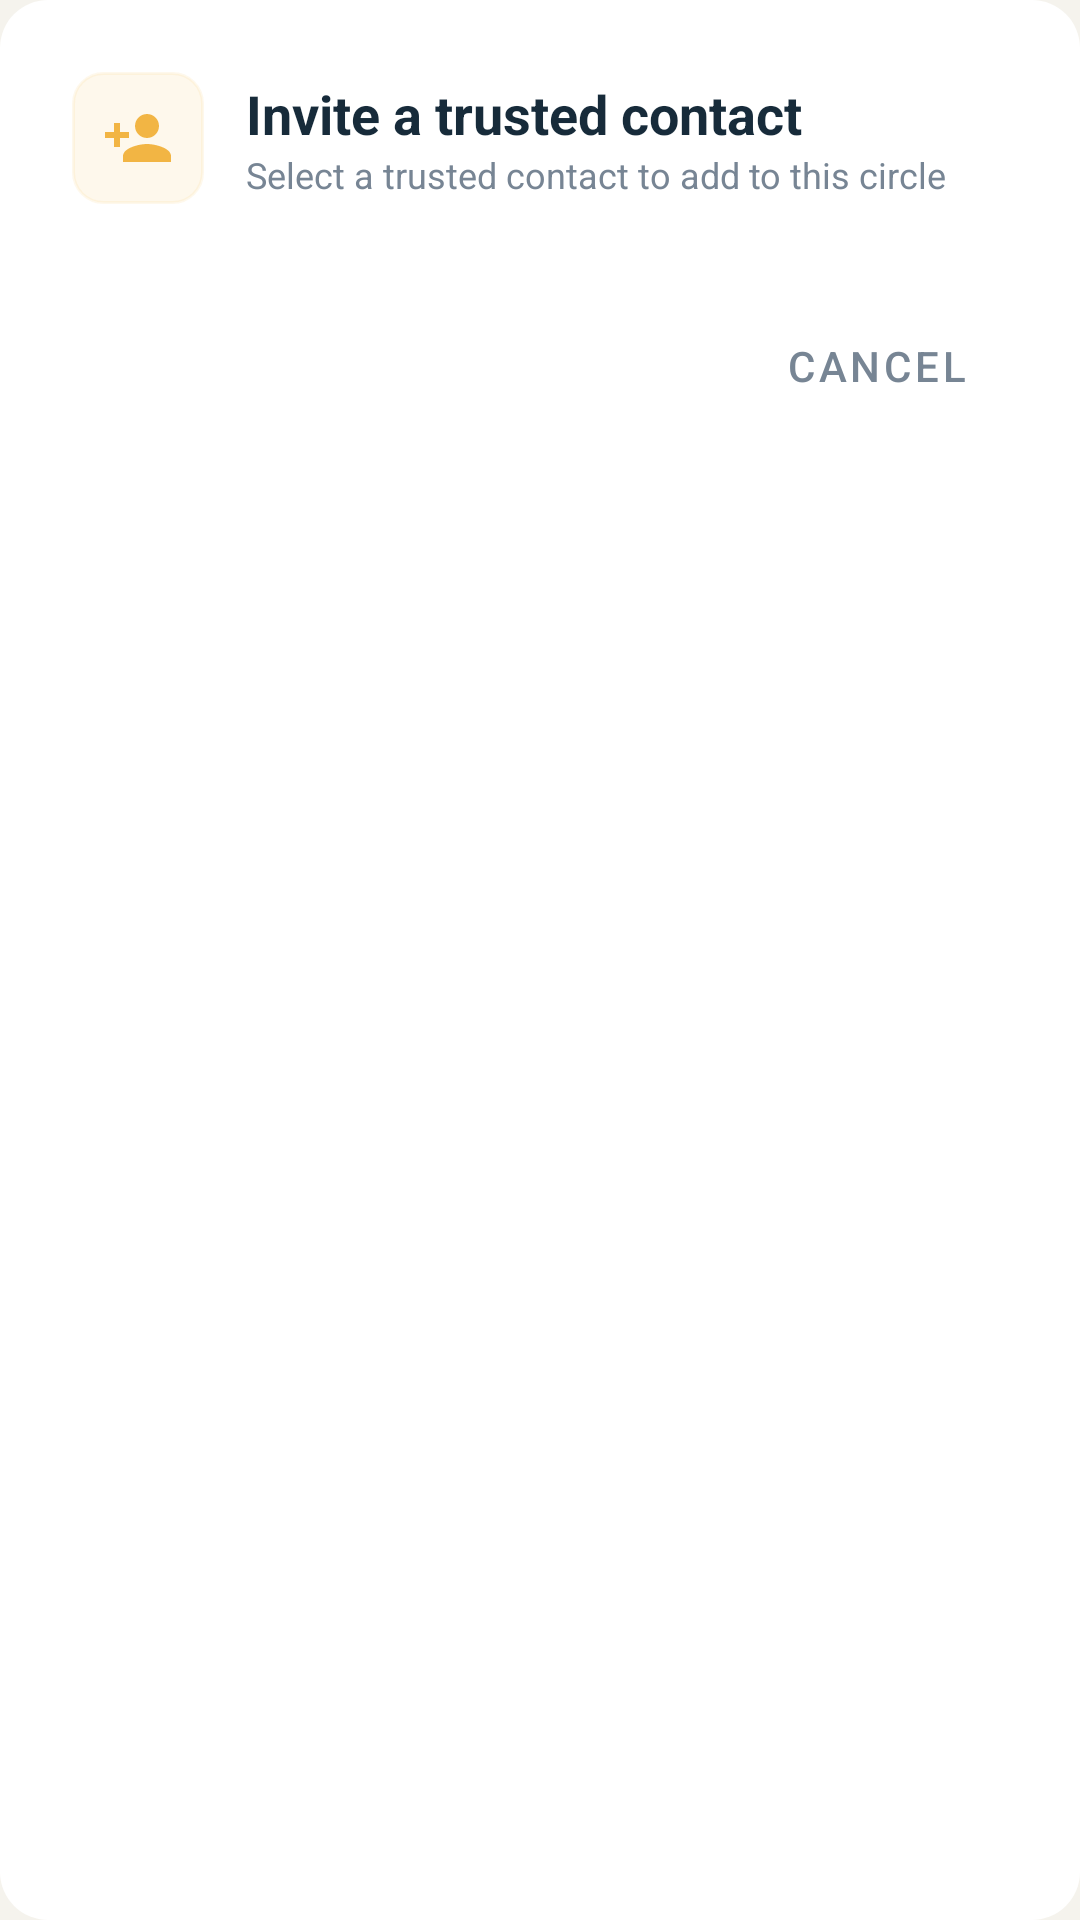

Icons on this 1080 × 1920 Android screen, each with its box as (x1,y1,x2,y2):
person add: (105,114,171,162)
